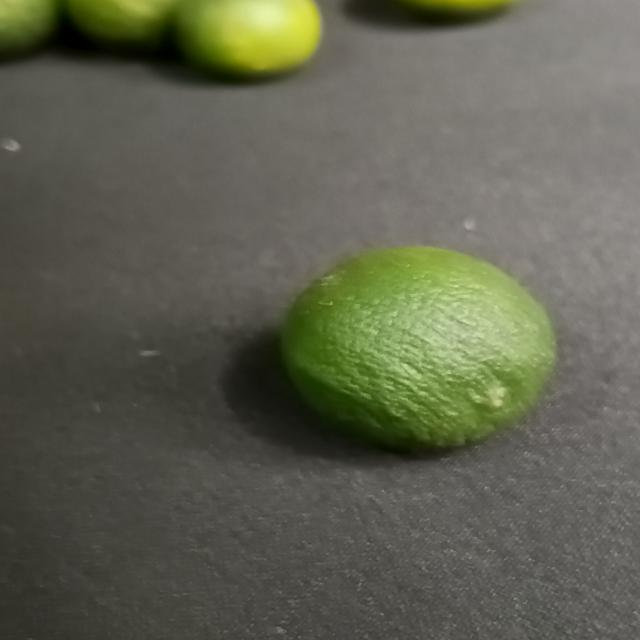heathy: (274, 247, 558, 452)
